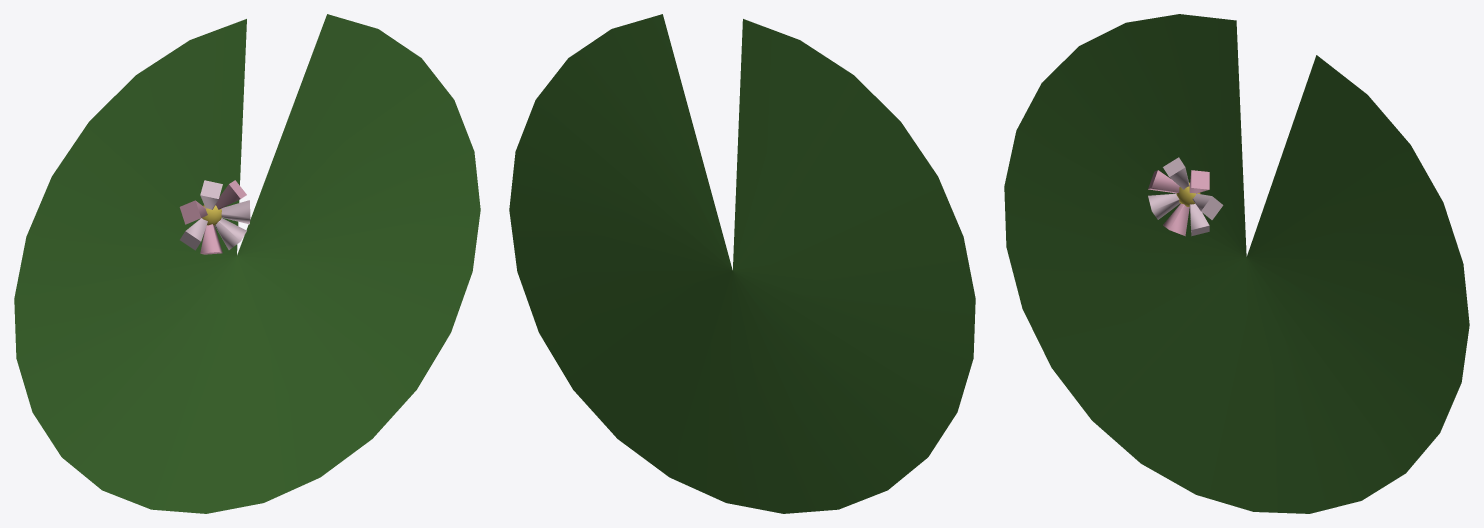
Rendered from lilypad.glb.
3 renders of one model, left to right at view 1: azimuth 30°, elevation 25°; view 2: azimuth 150°, elevation 25°; view 3: azimuth 330°, elevation 25°, orthographic.
Visible parts, largest first — view 1: LilypadMesh; view 2: LilypadMesh; view 3: LilypadMesh.
Boxes of the visible parts, bbox=[...] form: LilypadMesh: bbox=[14, 14, 480, 513]; LilypadMesh: bbox=[509, 14, 975, 513]; LilypadMesh: bbox=[1004, 14, 1469, 513].
Size of the model in its own units: 2 by 2 by 0.2204.
